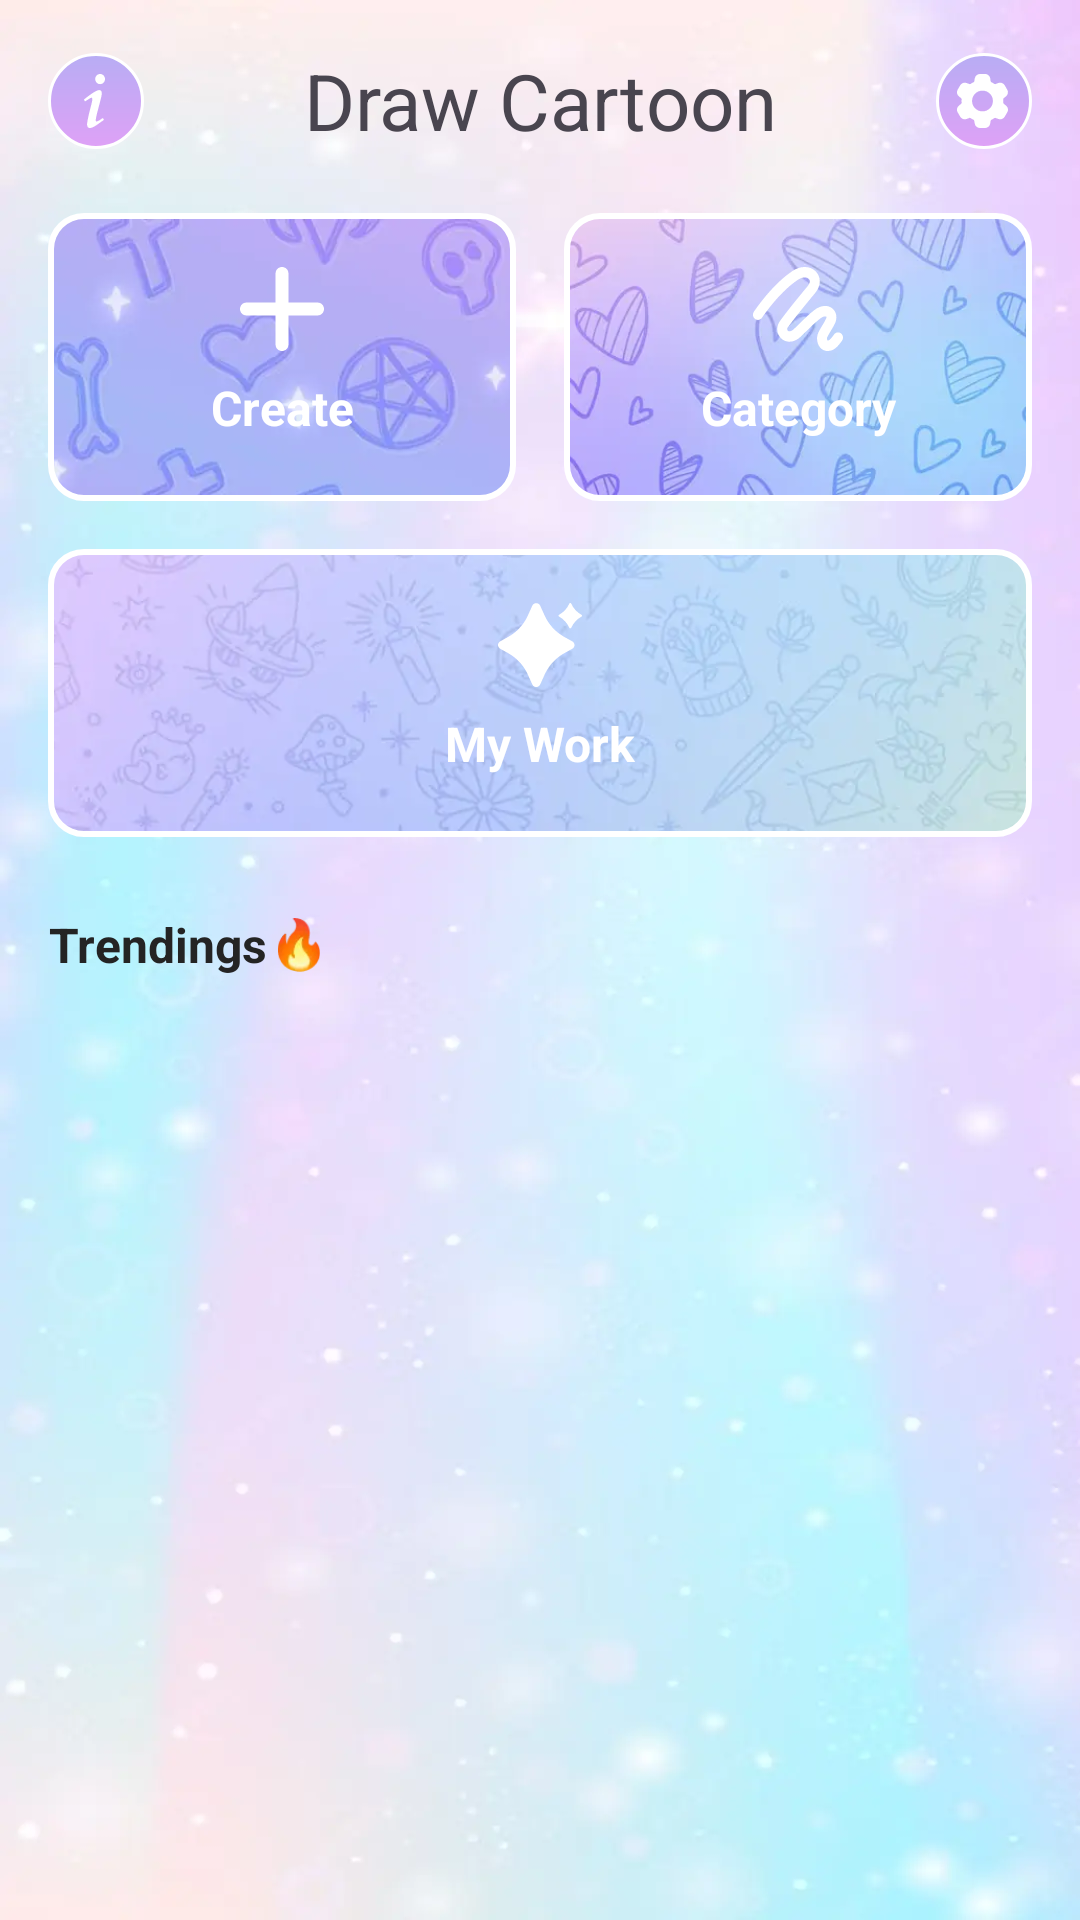

Icon bounding boxes for this 1080*1920 phone screenshot, format {"left": x1, "top": y1, "right": x2, "bottom": y2}:
fire: {"left": 278, "top": 918, "right": 320, "bottom": 972}
plus: {"left": 240, "top": 267, "right": 324, "bottom": 351}
